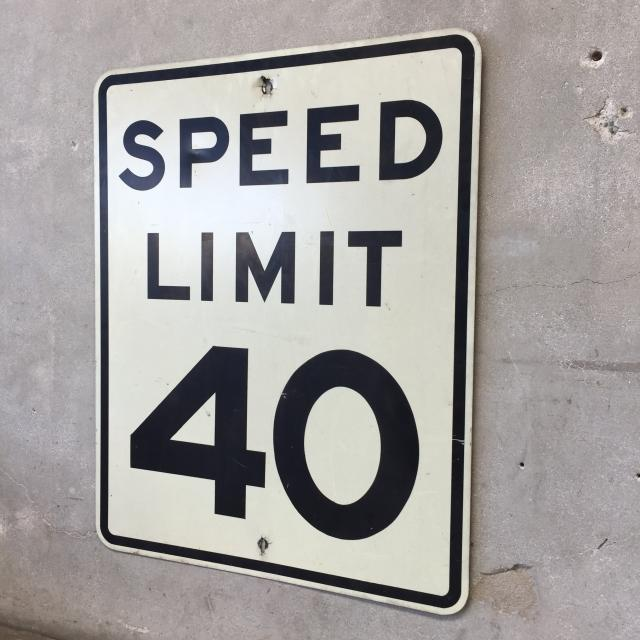speedLimit40: (96, 27, 479, 594)
